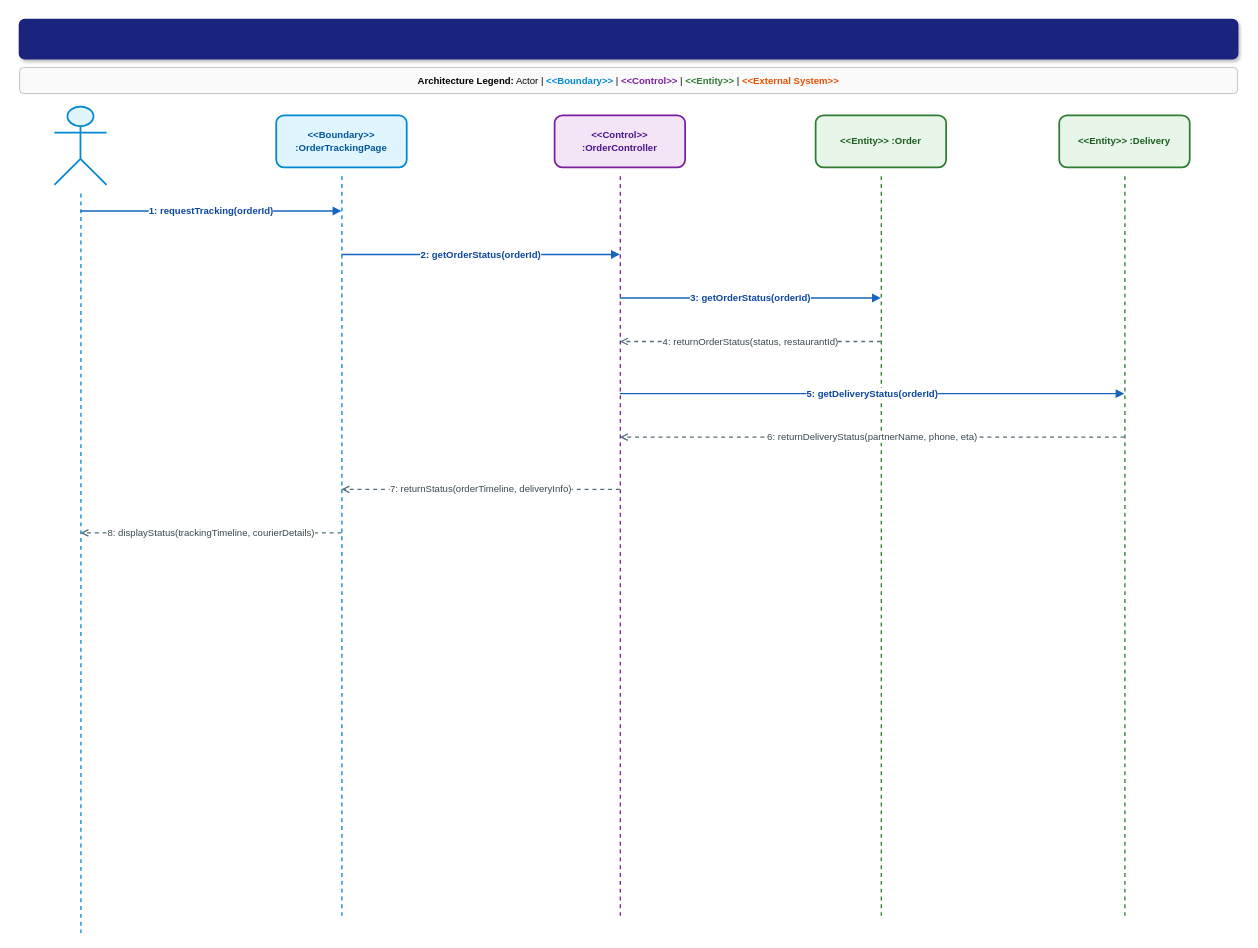
Some shapes in this 1258 by 948 pixel diagram are drawn without their labels. The centre of each missing label's shape, as x and y in pixels:
Customer: [80,145]
ONLINE FOOD ORDERING SYSTEM — TRACK ORDER SEQUENCE DIAGRAM: [629,40]
